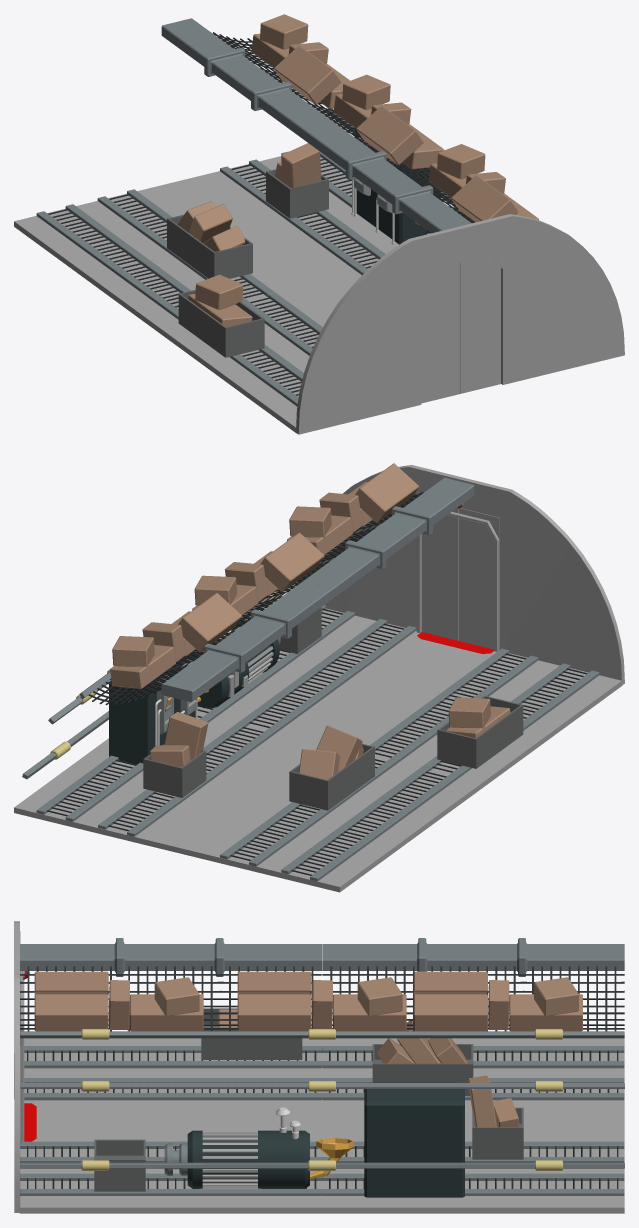
Rendered from hangar(final).fbx.
The picture shows the model from 3 angles, top to bottom: view 1: azimuth 30°, elevation 25°; view 2: azimuth 150°, elevation 25°; view 3: azimuth 270°, elevation 25°; orthographic projection. The views are drawn at different scales.
Visible parts, largest first — view 1: polySurface121, petit_sol_d, poutre (×2), Porte_g_02, pCube10 (×5), Porte_g_01, caisse, pCube9 (×3), pCube23, polySurface133, polySurface143, grp_04 (+13 smaller); view 2: petit_sol_d, polySurface121, poutre (×2), pCube10 (×8), pCube9 (×7), Porte_g_01, Porte_g_02, pasted__module_console_essence1, caisse, pCube23, polySurface133, polySurface143 (+19 smaller); view 3: petit_sol_d, poutre (×2), pCube9 (×8), barre, pasted__module_console_essence1, pCube10 (×8), pasted__pCylinder170, polySurface134, polySurface144, polySurface139, caisse, pCube23 (+31 smaller).
Part boxes in pixels (bbox=[...]): polySurface121: bbox=[296, 214, 624, 434]; petit_sol_d: bbox=[14, 156, 398, 433]; poutre (×2): bbox=[161, 18, 471, 233]; Porte_g_02: bbox=[460, 255, 500, 393]; pCube10 (×5): bbox=[36, 166, 367, 406]; Porte_g_01: bbox=[421, 263, 459, 403]; caisse: bbox=[178, 290, 264, 357]; pCube9 (×3): bbox=[65, 159, 385, 296]; pCube23: bbox=[167, 214, 252, 278]; polySurface133: bbox=[356, 106, 423, 165]; polySurface143: bbox=[274, 45, 341, 104]; grp_04: bbox=[188, 274, 252, 326]; petit_sol_d: bbox=[14, 608, 621, 892]; polySurface121: bbox=[297, 465, 624, 685]; poutre (×2): bbox=[161, 477, 474, 702]; pCube10 (×8): bbox=[65, 611, 599, 881]; pCube9 (×7): bbox=[36, 619, 570, 874]; Porte_g_01: bbox=[459, 508, 499, 649]; Porte_g_02: bbox=[422, 508, 458, 640]; pasted__module_console_essence1: bbox=[109, 651, 195, 764]; caisse: bbox=[437, 695, 523, 768]; pCube23: bbox=[289, 743, 374, 810]; polySurface133: bbox=[260, 532, 324, 591]; polySurface143: bbox=[178, 593, 242, 652]; petit_sol_d: bbox=[19, 1038, 624, 1213]; poutre (×2): bbox=[20, 938, 624, 976]; pCube9 (×8): bbox=[20, 1061, 624, 1195]; barre: bbox=[20, 1031, 624, 1168]; pasted__module_console_essence1: bbox=[364, 1082, 464, 1197]; pCube10 (×8): bbox=[20, 1046, 624, 1180]; pasted__pCylinder170: bbox=[187, 1130, 309, 1188]; polySurface134: bbox=[237, 994, 311, 1031]; polySurface144: bbox=[414, 994, 487, 1031]; polySurface139: bbox=[34, 994, 108, 1031]; caisse: bbox=[201, 1008, 302, 1059]; pCube23: bbox=[372, 1044, 473, 1095].
Size of the model in its own units: 400 by 204 by 606.
